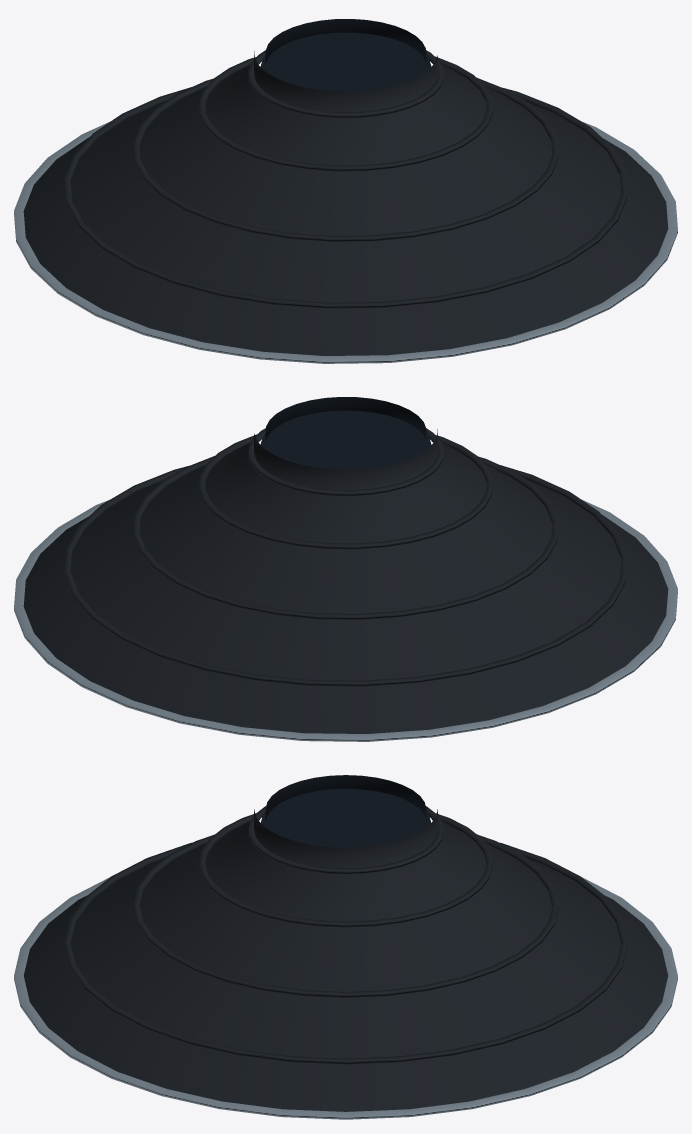
The model's file is sls_srb_nozzle.glb.
The picture shows the model from 3 angles, top to bottom: view 1: azimuth 30°, elevation 25°; view 2: azimuth 150°, elevation 25°; view 3: azimuth 270°, elevation 25°; orthographic projection.
Visible parts, largest first — view 1: sls_srb_lnozzlebellmesh_Carbon_composite, sls_srb_lnozzlebellmesh_Shadowed_interior, sls_srb_lnozzlebellmesh_Machined_steel; view 2: sls_srb_lnozzlebellmesh_Carbon_composite, sls_srb_lnozzlebellmesh_Shadowed_interior, sls_srb_lnozzlebellmesh_Machined_steel; view 3: sls_srb_lnozzlebellmesh_Carbon_composite, sls_srb_lnozzlebellmesh_Shadowed_interior, sls_srb_lnozzlebellmesh_Machined_steel.
Part boxes in pixels (box(x1,y1,x2,y2)): sls_srb_lnozzlebellmesh_Carbon_composite: box(23, 50, 668, 355); sls_srb_lnozzlebellmesh_Shadowed_interior: box(260, 19, 431, 91); sls_srb_lnozzlebellmesh_Machined_steel: box(14, 121, 677, 363); sls_srb_lnozzlebellmesh_Carbon_composite: box(23, 428, 668, 733); sls_srb_lnozzlebellmesh_Shadowed_interior: box(260, 397, 431, 469); sls_srb_lnozzlebellmesh_Machined_steel: box(14, 499, 677, 741); sls_srb_lnozzlebellmesh_Carbon_composite: box(23, 806, 668, 1111); sls_srb_lnozzlebellmesh_Shadowed_interior: box(260, 775, 431, 847); sls_srb_lnozzlebellmesh_Machined_steel: box(14, 877, 677, 1119).
Bounding box in the file's own units: 2.37 × 0.67 × 2.37.
